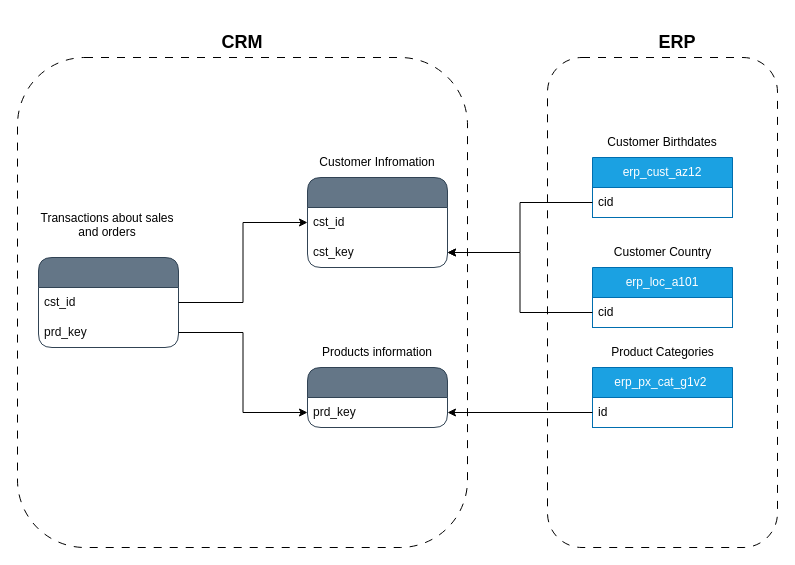
This 795x565 diagram has some shape labels left out. Here are the shapes that lost their labels. From the top down, the box of each, then its label:
(306, 176, 448, 268): crm_cust_info
(38, 256, 178, 348): crm_sales_details
(306, 366, 448, 428): crm_prd_info
